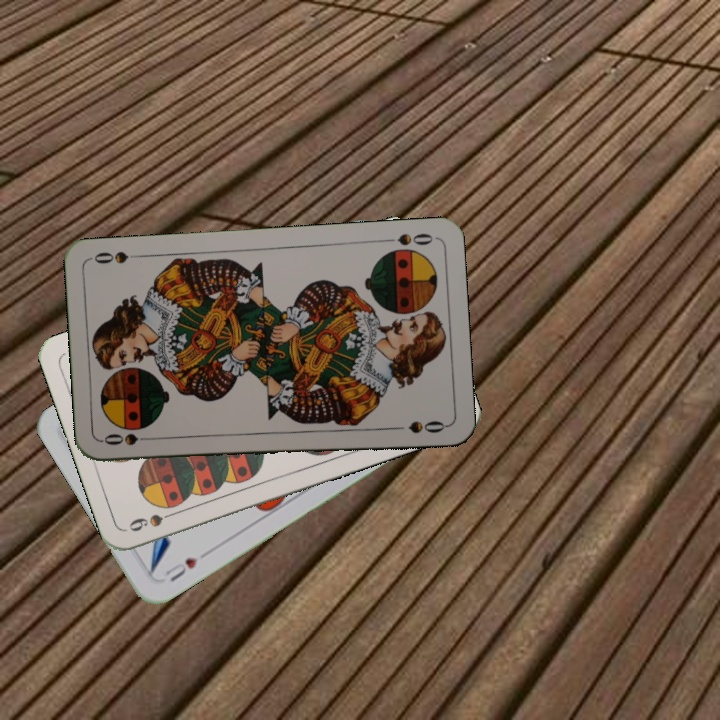HU: (159, 553, 201, 585)
S9: (125, 506, 182, 535)
SO: (100, 429, 159, 448), (378, 229, 436, 248)
